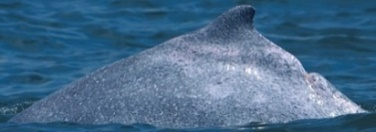fin: (4, 1, 375, 128)
